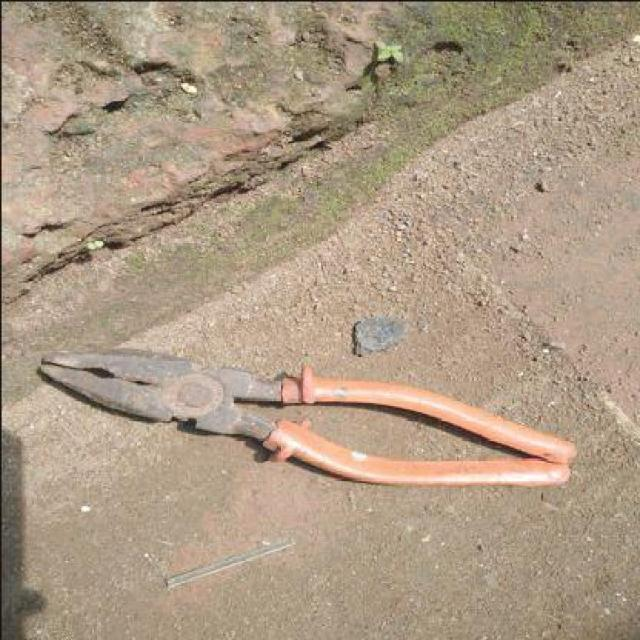pliers: (30, 350, 572, 487)
